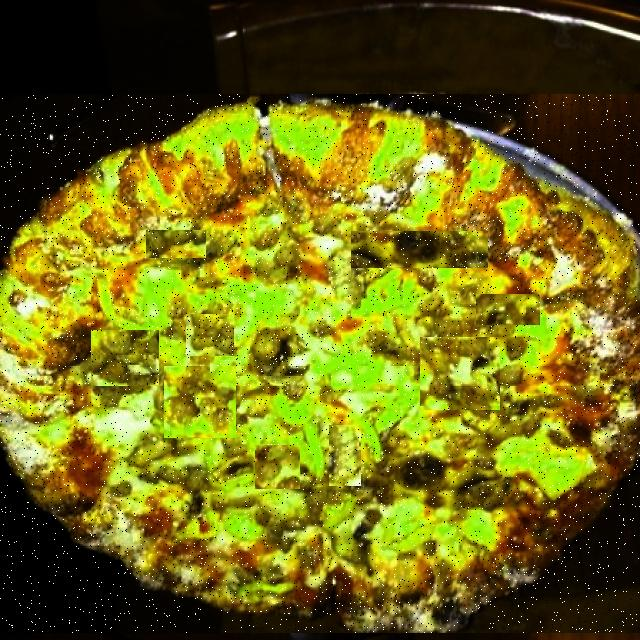Beef: (420, 337, 500, 410), (164, 366, 237, 438), (352, 232, 489, 270), (91, 330, 159, 386), (272, 182, 333, 236), (146, 262, 177, 348), (260, 344, 300, 400), (220, 251, 252, 315), (186, 314, 234, 356), (476, 294, 540, 325), (255, 445, 300, 489), (329, 425, 361, 486), (146, 230, 206, 258)
Pizza: (0, 94, 640, 633)
